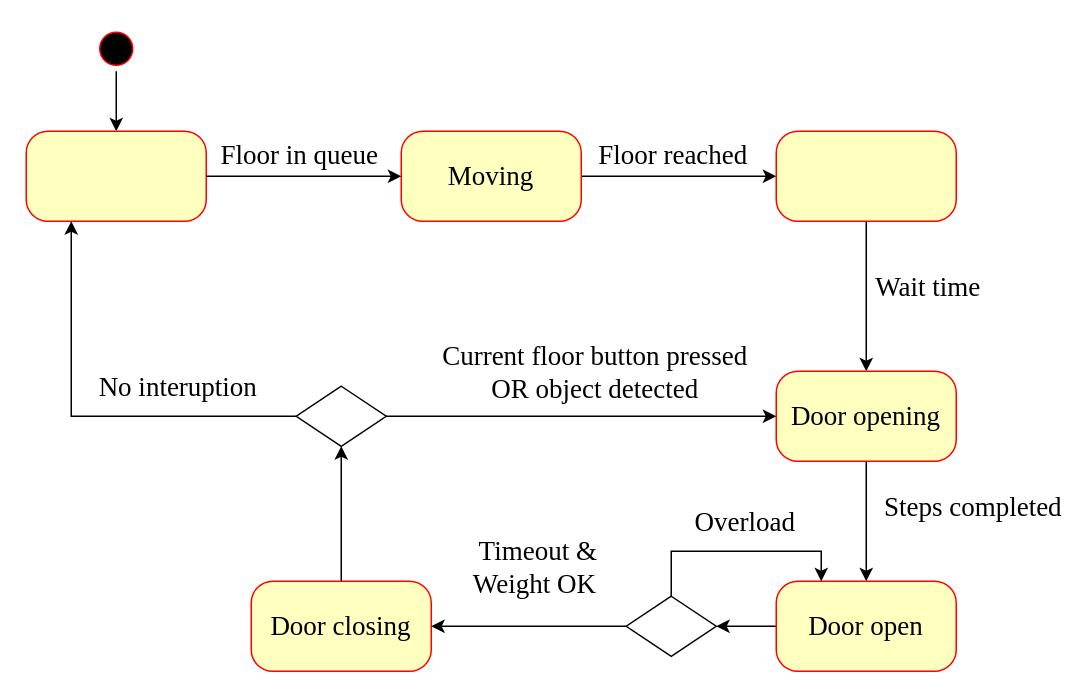
Image size: 1086x698. Some labels were removed from this diagram. The shapes that lost their labels are listed below. From the top down, each one's centre as x and y in pixels, then its label:
At (x=115, y=175): "Door closed".
At (x=865, y=175): "Stop at floor".
